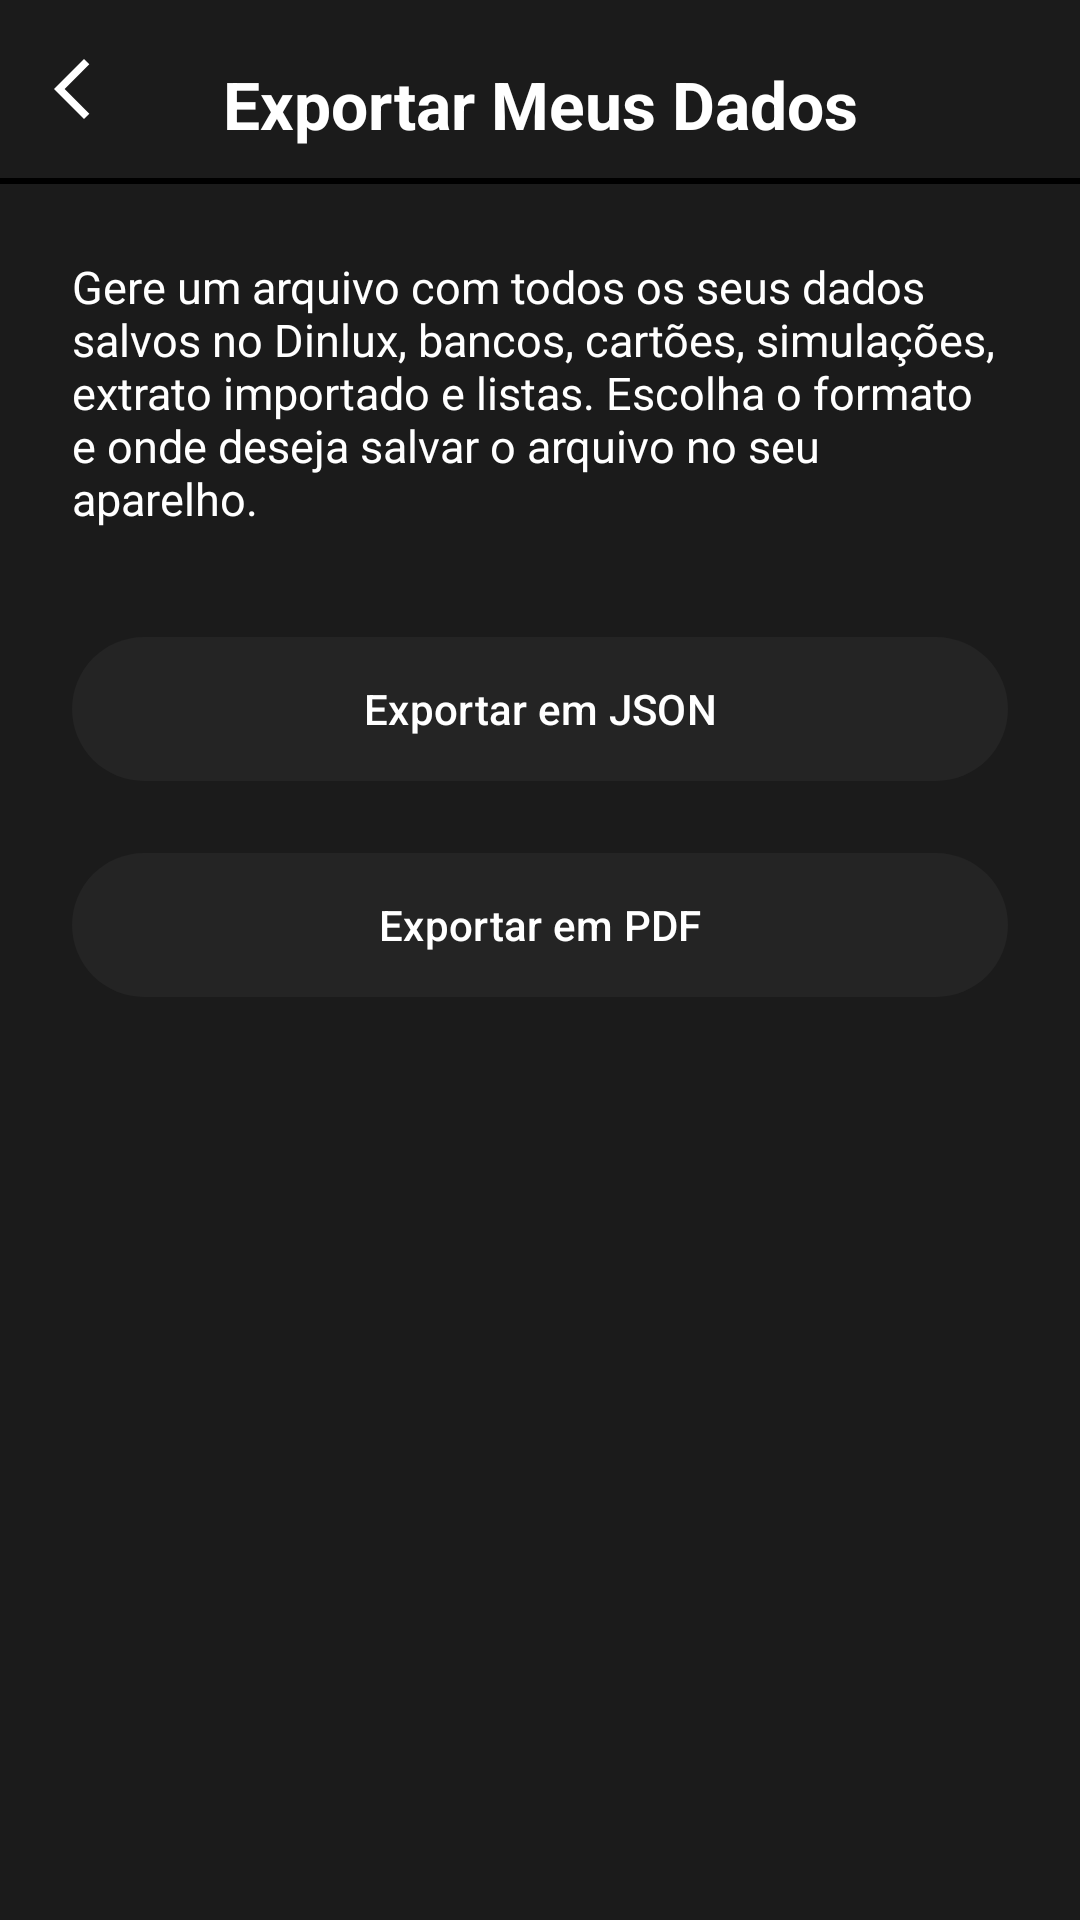

Named icons in this screenshot (1080x1920) and their bounding boxes, box(x1, y1, x2, y2):
to back: box(54, 59, 89, 119)
